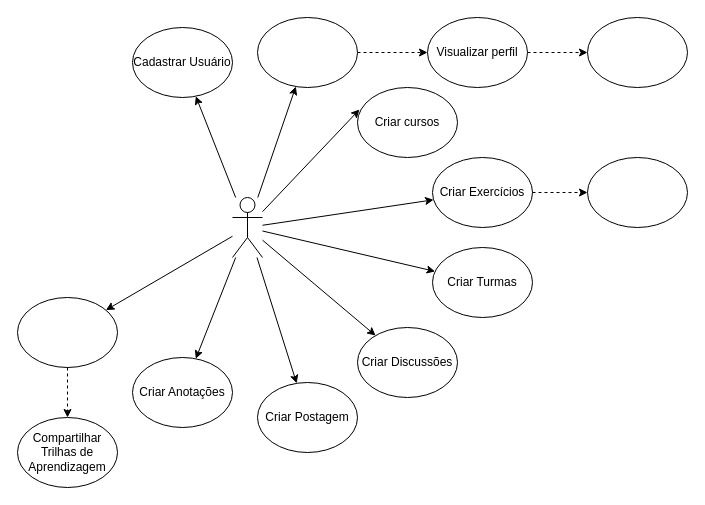
The diagram is 705 pixels wide and 505 high, and some of its shapes have lost their labels. Here are the shapes that lost their labels. From the top down, the box of each, then its label:
(256, 16, 358, 88): Efetuar login
(586, 16, 688, 88): Alterar dados
(586, 156, 688, 228): Gerenciar Exercícios
(232, 196, 262, 258): Tutor
(16, 296, 118, 368): Criar Trilhas de Aprendizagem
